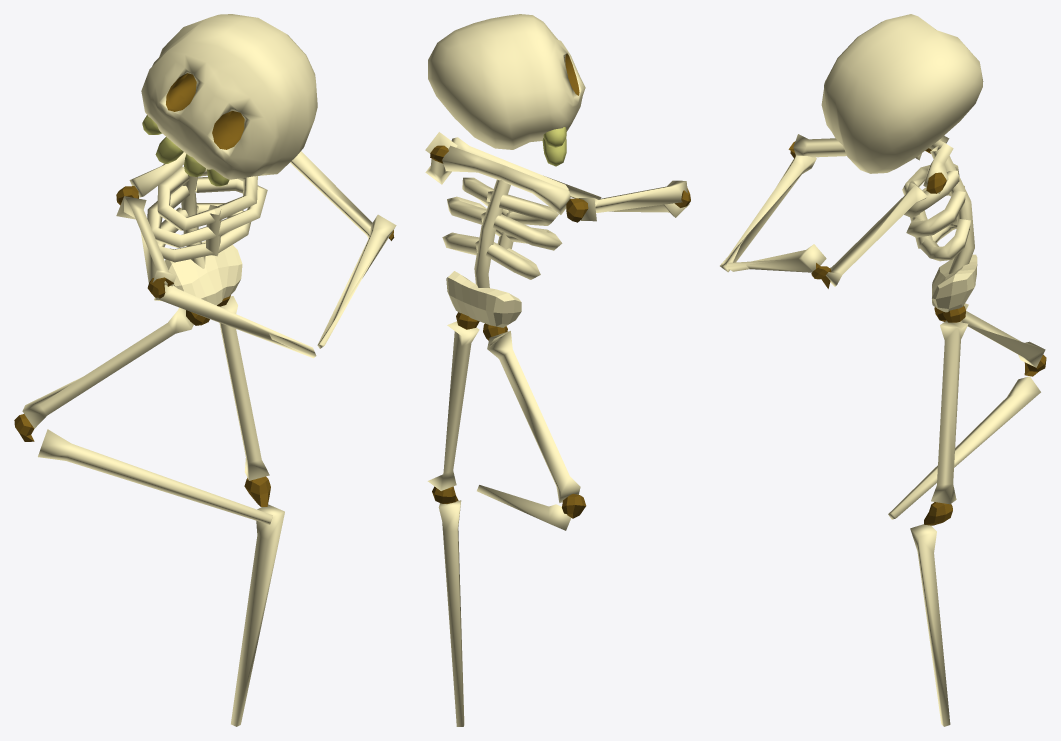
File: Skeleton Standing 01.fbx
The picture shows the model from 3 angles, left to right: view 1: azimuth 30°, elevation 25°; view 2: azimuth 150°, elevation 25°; view 3: azimuth 270°, elevation 25°; orthographic projection. The views are drawn at different scales.
Visible parts, largest first — view 1: Skelly Standing 01; view 2: Skelly Standing 01; view 3: Skelly Standing 01.
Boxes of the visible parts, x1,y1,x2,y2 form: Skelly Standing 01: [14, 14, 396, 726]; Skelly Standing 01: [425, 14, 690, 726]; Skelly Standing 01: [720, 14, 1046, 726].
Bounding box in the file's own units: 108 × 251 × 97.1.
